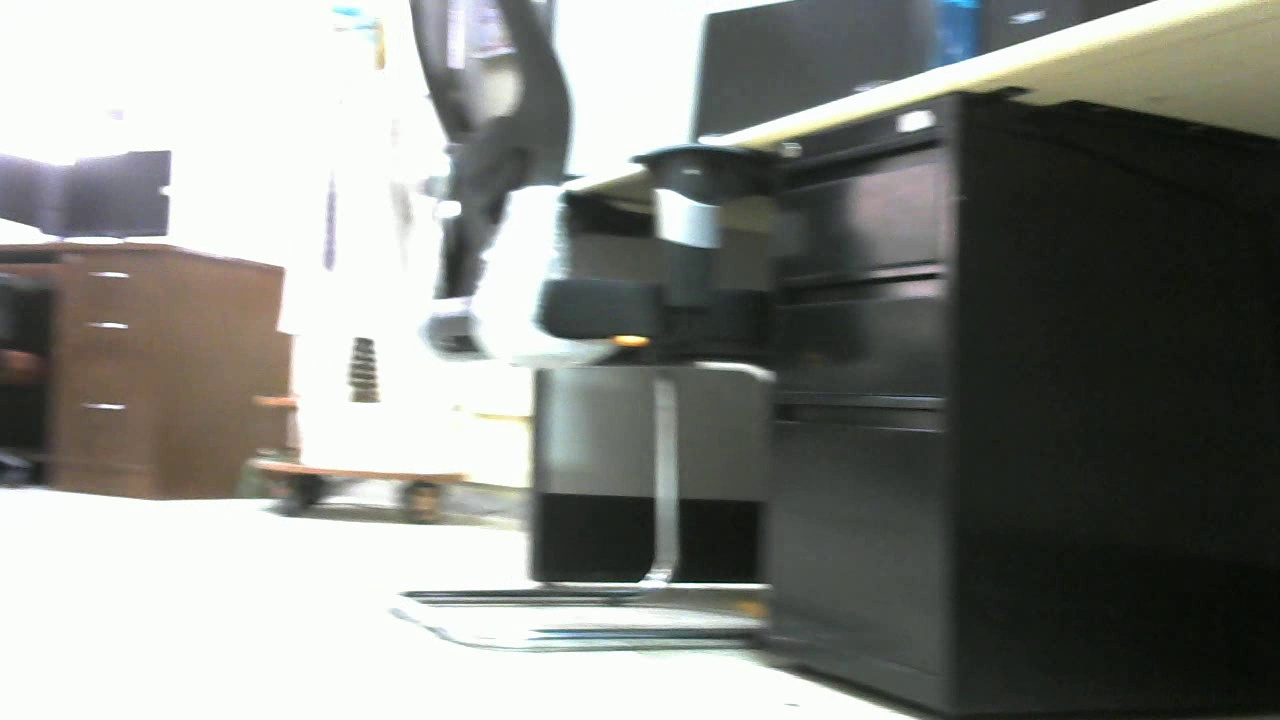chair: (389, 1, 775, 650)
